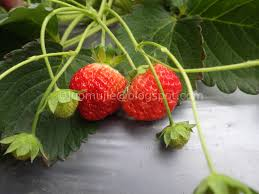ripe: (123, 56, 185, 128), (71, 62, 133, 127)
unripe: (44, 89, 81, 119)
